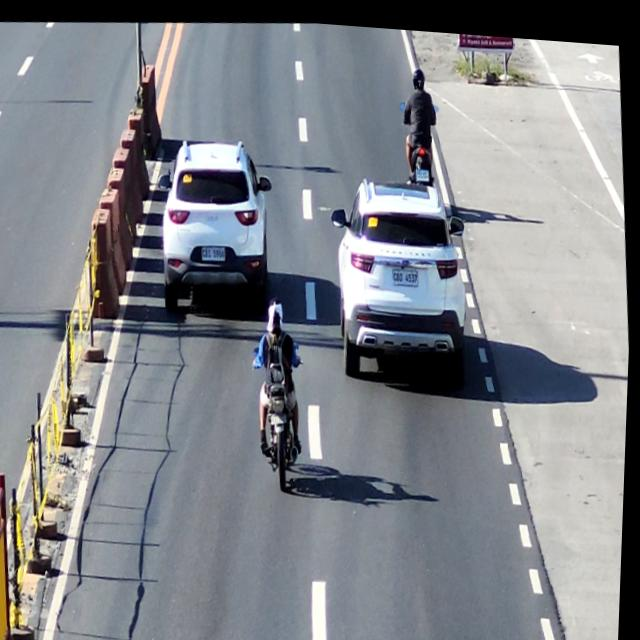Car: (329, 163, 479, 393), (156, 134, 279, 317)
License-Plate: (195, 238, 233, 262), (393, 258, 423, 281), (269, 401, 294, 424), (414, 159, 433, 176)
Motorcycle: (247, 314, 318, 501), (395, 86, 446, 183)
